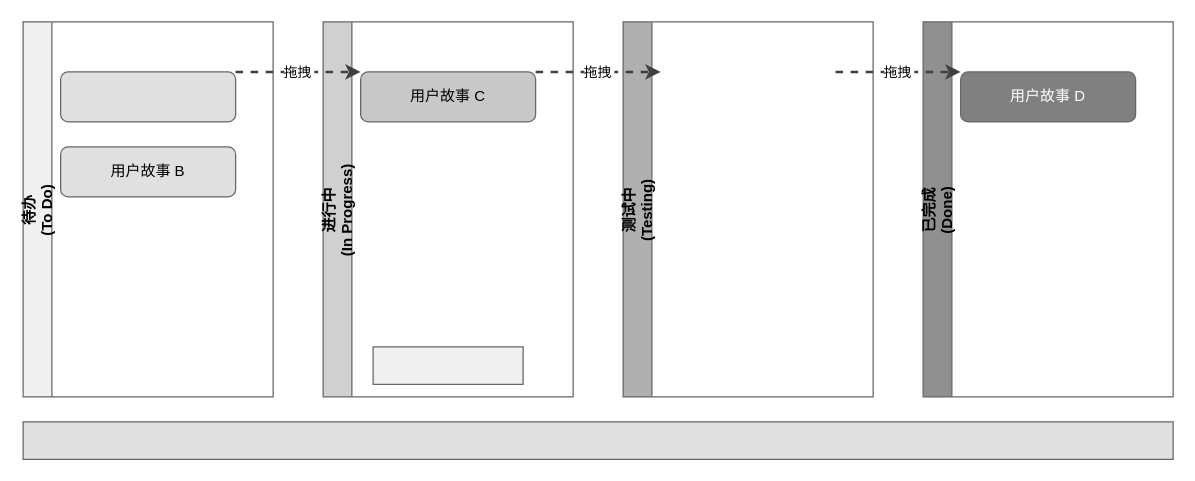
This 1195x481 diagram has some shape labels left out. Here are the shapes that lost their labels. From the top down, the centre of each, then its label:
At (147,96): "用户故事 A".
At (447,365): "WIP 限制: 3".
At (597,440): "Swimlane: 前端开发".
